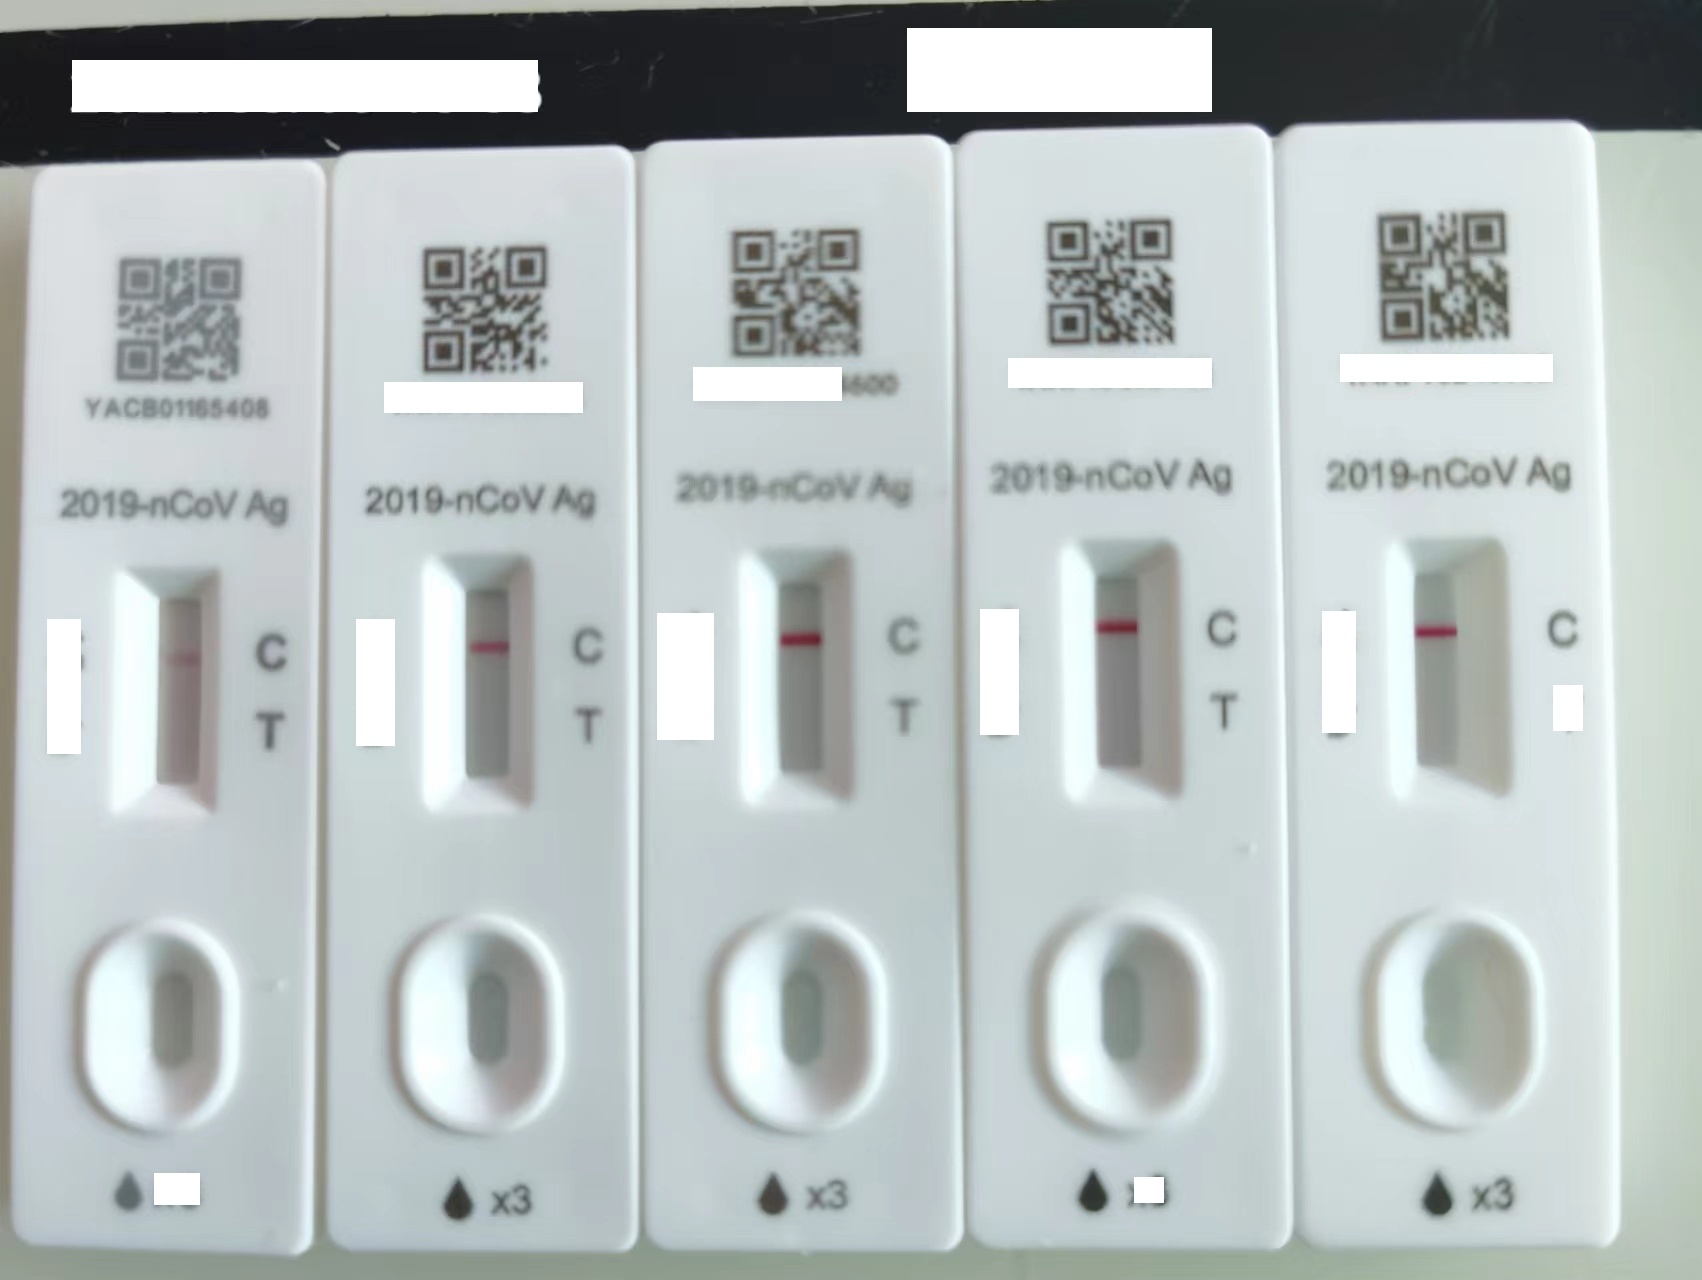negative: (1067, 532, 1187, 815), (739, 541, 859, 817), (1391, 538, 1515, 805), (426, 550, 540, 809), (122, 558, 225, 817)
